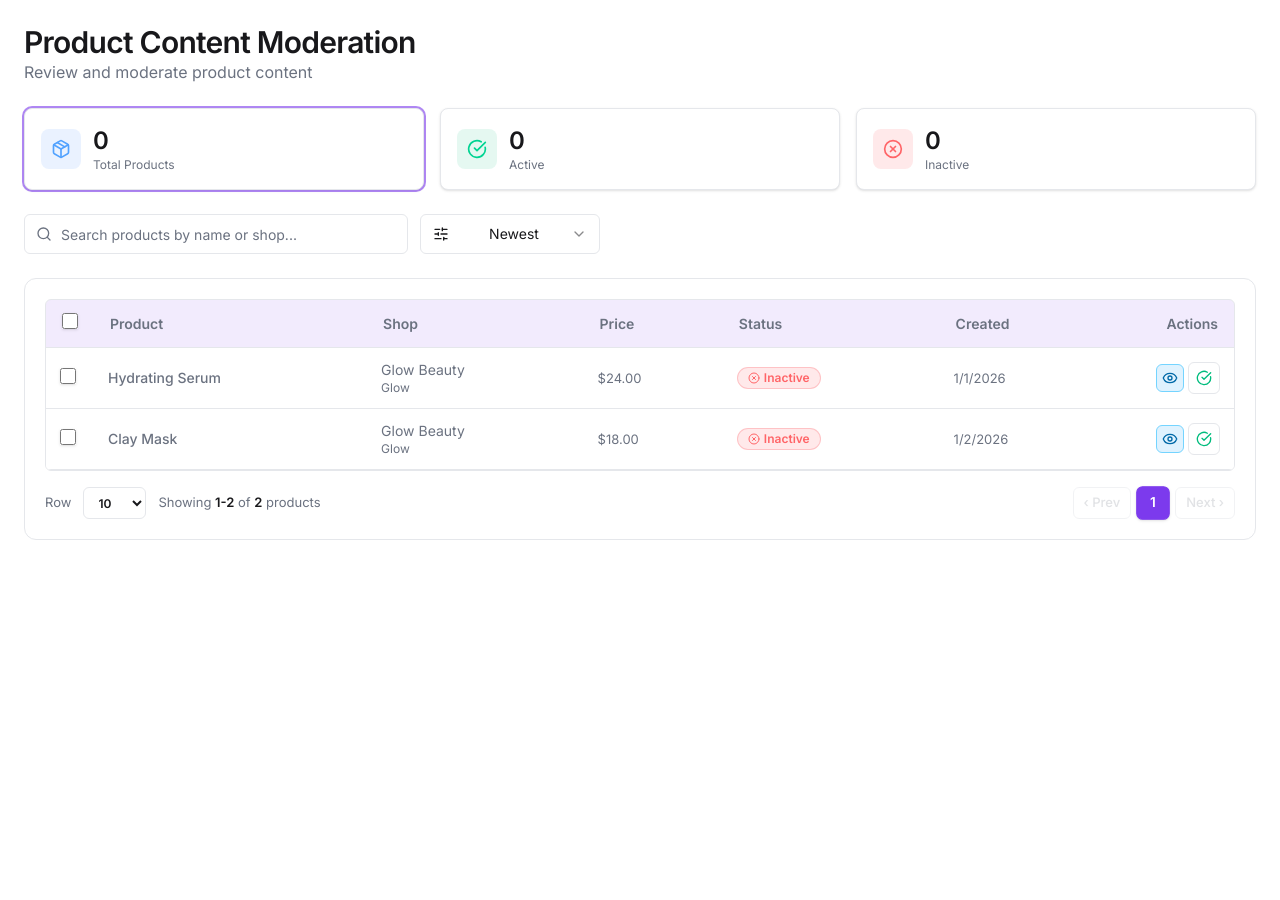
Scenario: ContentModeration bulk moderation modals › does not update product status when the modal is cancelled
This screenshot has width=1280, height=900.
expect the text "Hydrating Serum" is shown: met, box [108,368,221,388]
Click the checkbox in the row of "Shop" at (70, 321), box [62,313,78,329]
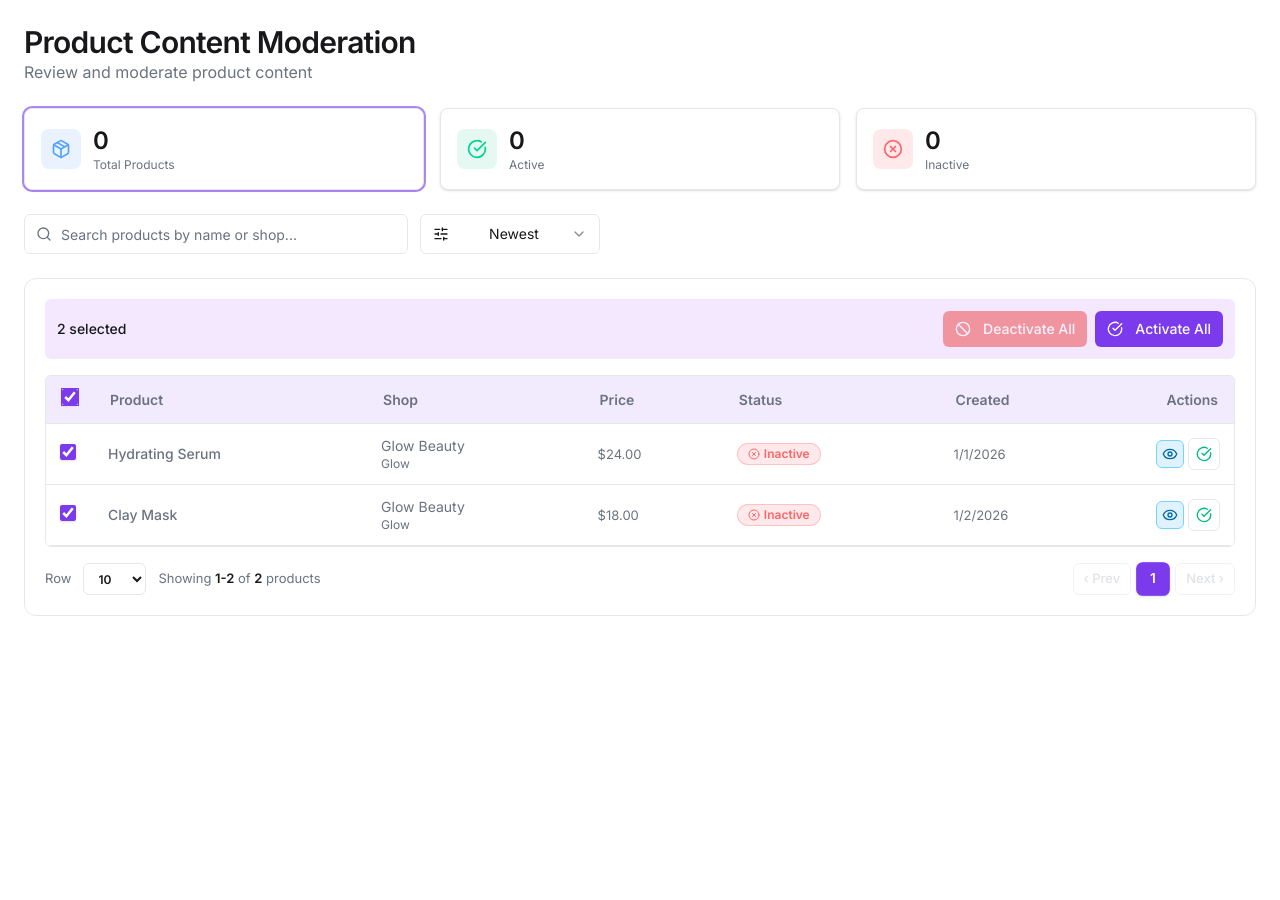
expect the text "2 selected" is shown: met, box [57,319,126,339]
Click the button "Activate All" at (1159, 329), box [1095,311,1223,347]
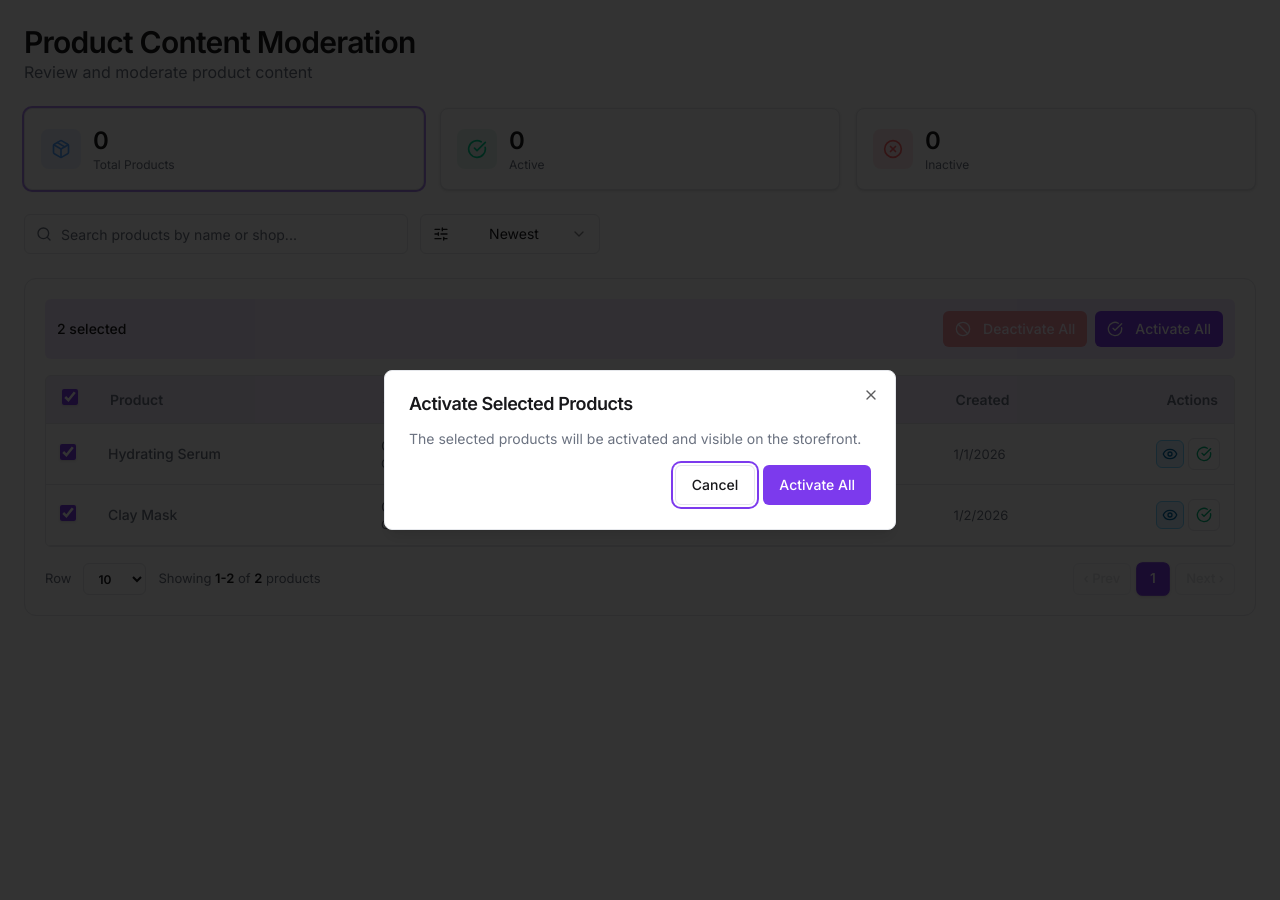
Click the button "Cancel" at (715, 485), box [675,465,755,505]
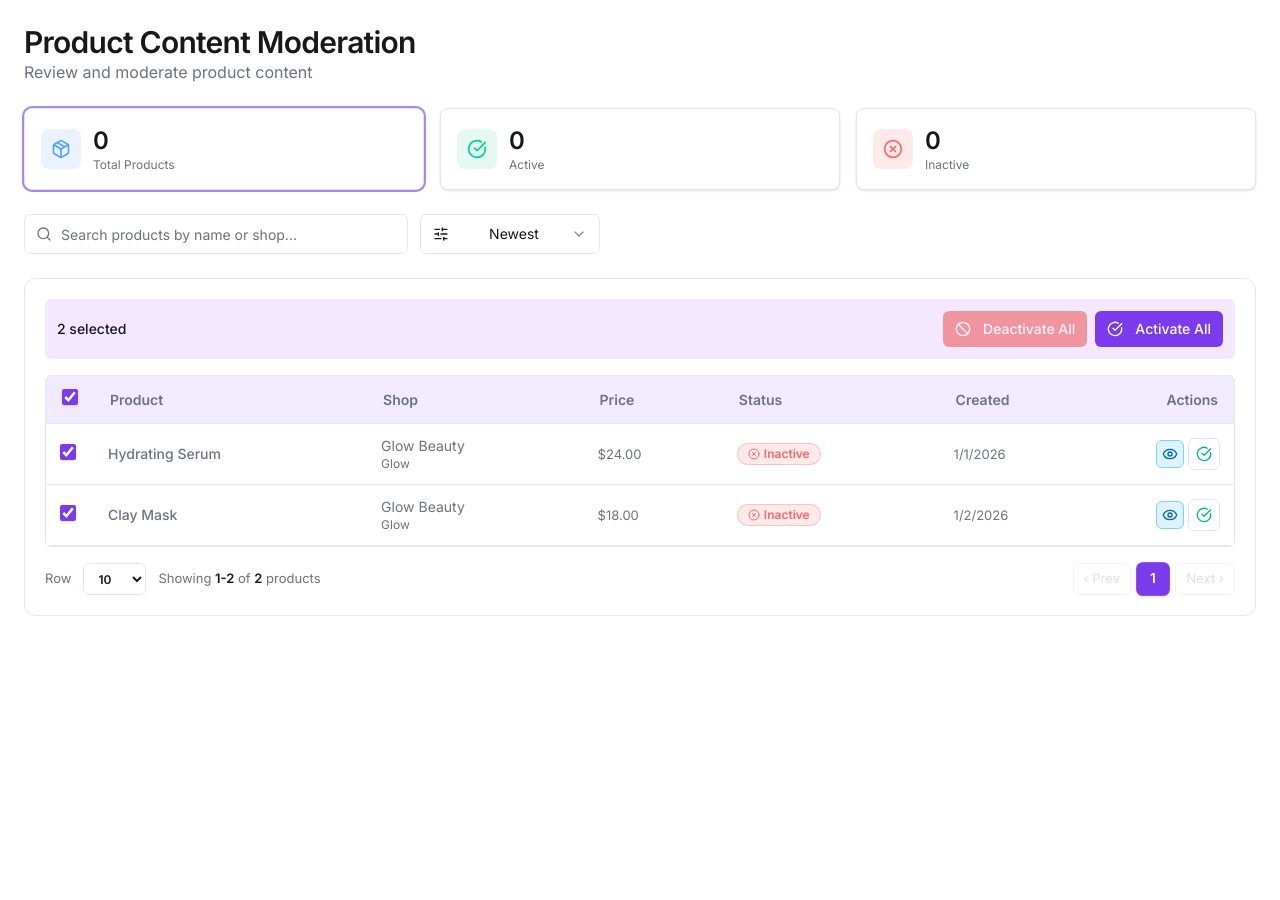
expect the dialog is gone: met
